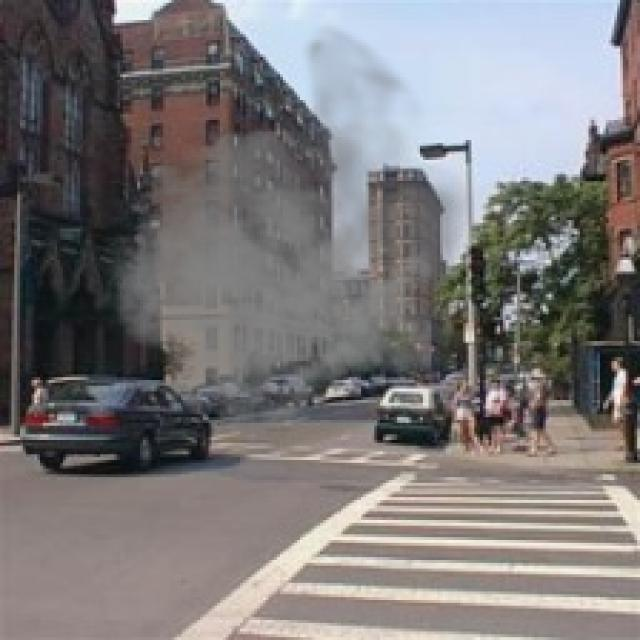Smoke: (88, 20, 480, 437)
